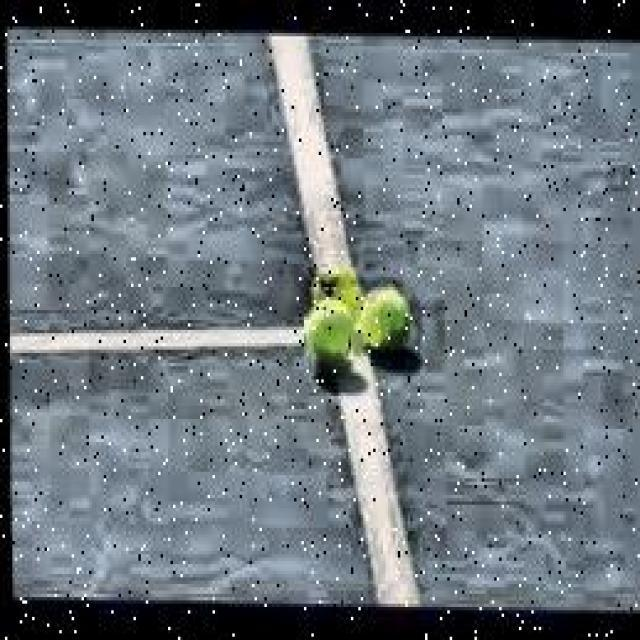tennis-ball: (300, 310, 352, 376), (305, 270, 357, 326), (359, 292, 402, 352)
